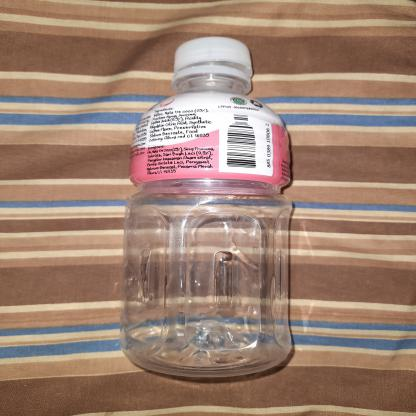bottle: (115, 35, 300, 381)
